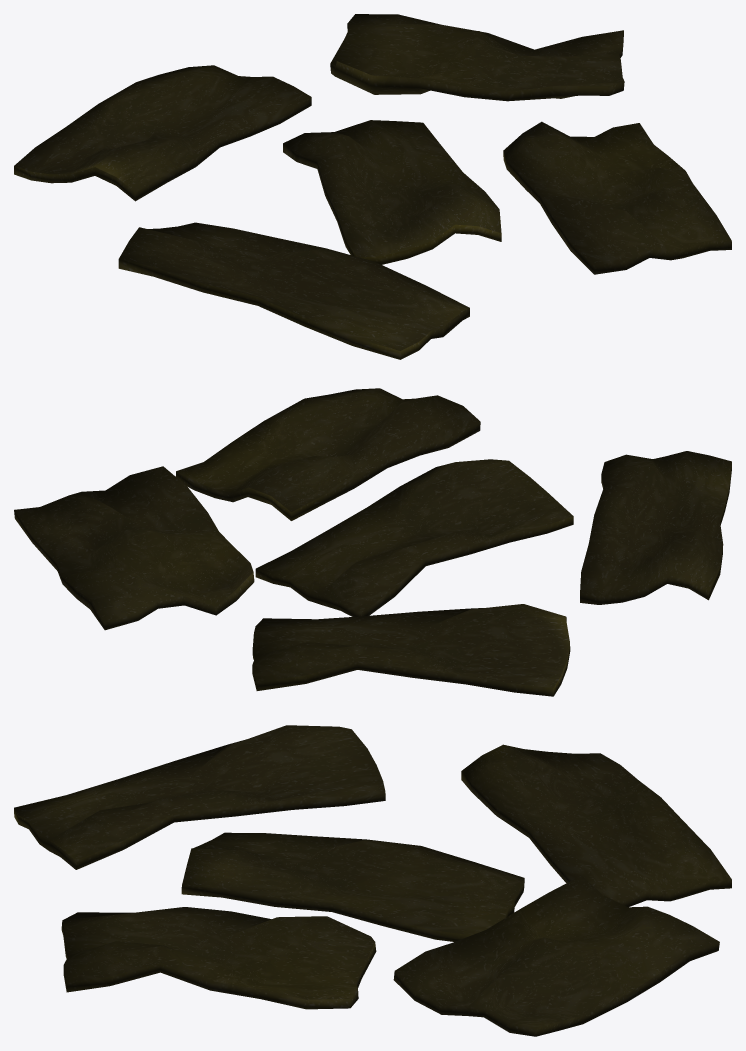
The model's file is yakiniku_02_p.glb.
3 renders of one model, top to bottom at view 1: azimuth 30°, elevation 25°; view 2: azimuth 150°, elevation 25°; view 3: azimuth 270°, elevation 25°, orthographic. The views are drawn at different scales.
Parts seen in each view (by area): view 1: yakiniku.002; view 2: yakiniku.002; view 3: yakiniku.002.
Boxes of the visible parts, box(x1,y1,x2,y2) form: yakiniku.002: box(14, 14, 731, 359); yakiniku.002: box(14, 388, 731, 696); yakiniku.002: box(14, 725, 731, 1036).
Bounding box in the file's own units: 0.1823 × 0.0146 × 0.1811.
1 material, 1 textured.
